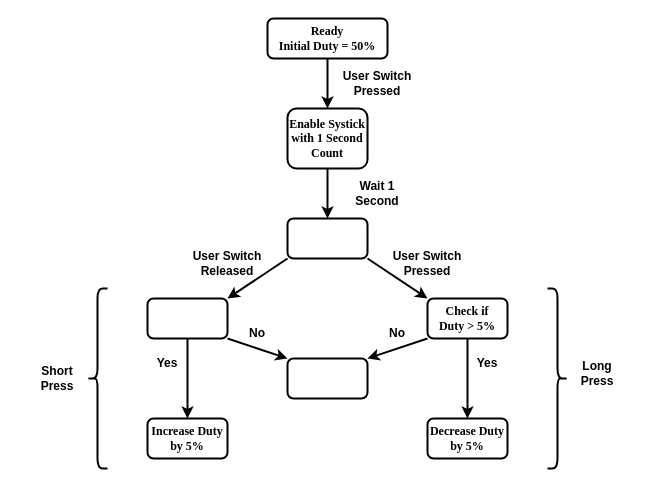
Some shapes in this 654 by 486 pixel diagram are drawn without their labels. The shapes that lost their labels are listed below. From the top down, each one's centre as x and y in pixels, then its label:
the point at 327,238: Systick counts to zero
the point at 187,318: Check if Duty < 95%
the point at 327,378: No Change
